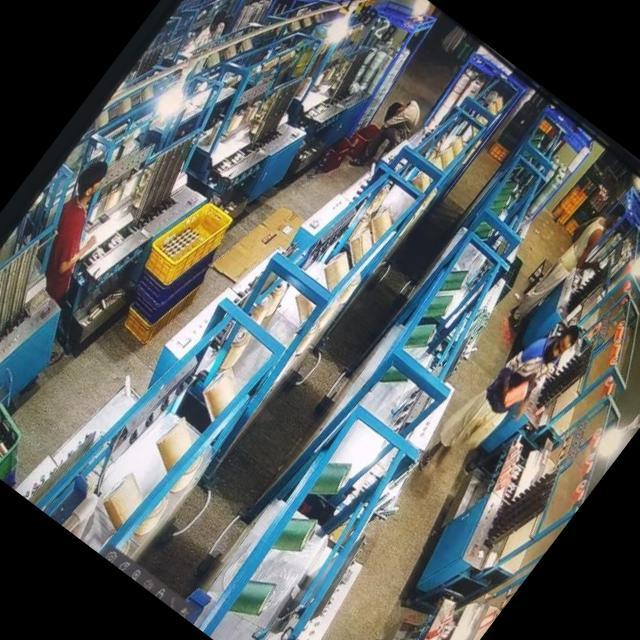person: (412, 297, 590, 505), (502, 190, 638, 350), (19, 154, 143, 292), (342, 87, 430, 187)
